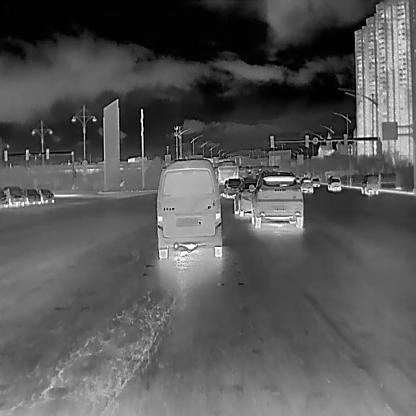car: (155, 157, 222, 258), (251, 170, 304, 228), (233, 180, 257, 216), (5, 185, 24, 207), (223, 177, 240, 198), (361, 174, 378, 194), (24, 187, 41, 203), (38, 186, 55, 202), (298, 177, 313, 193), (327, 175, 341, 191), (311, 177, 319, 187)
